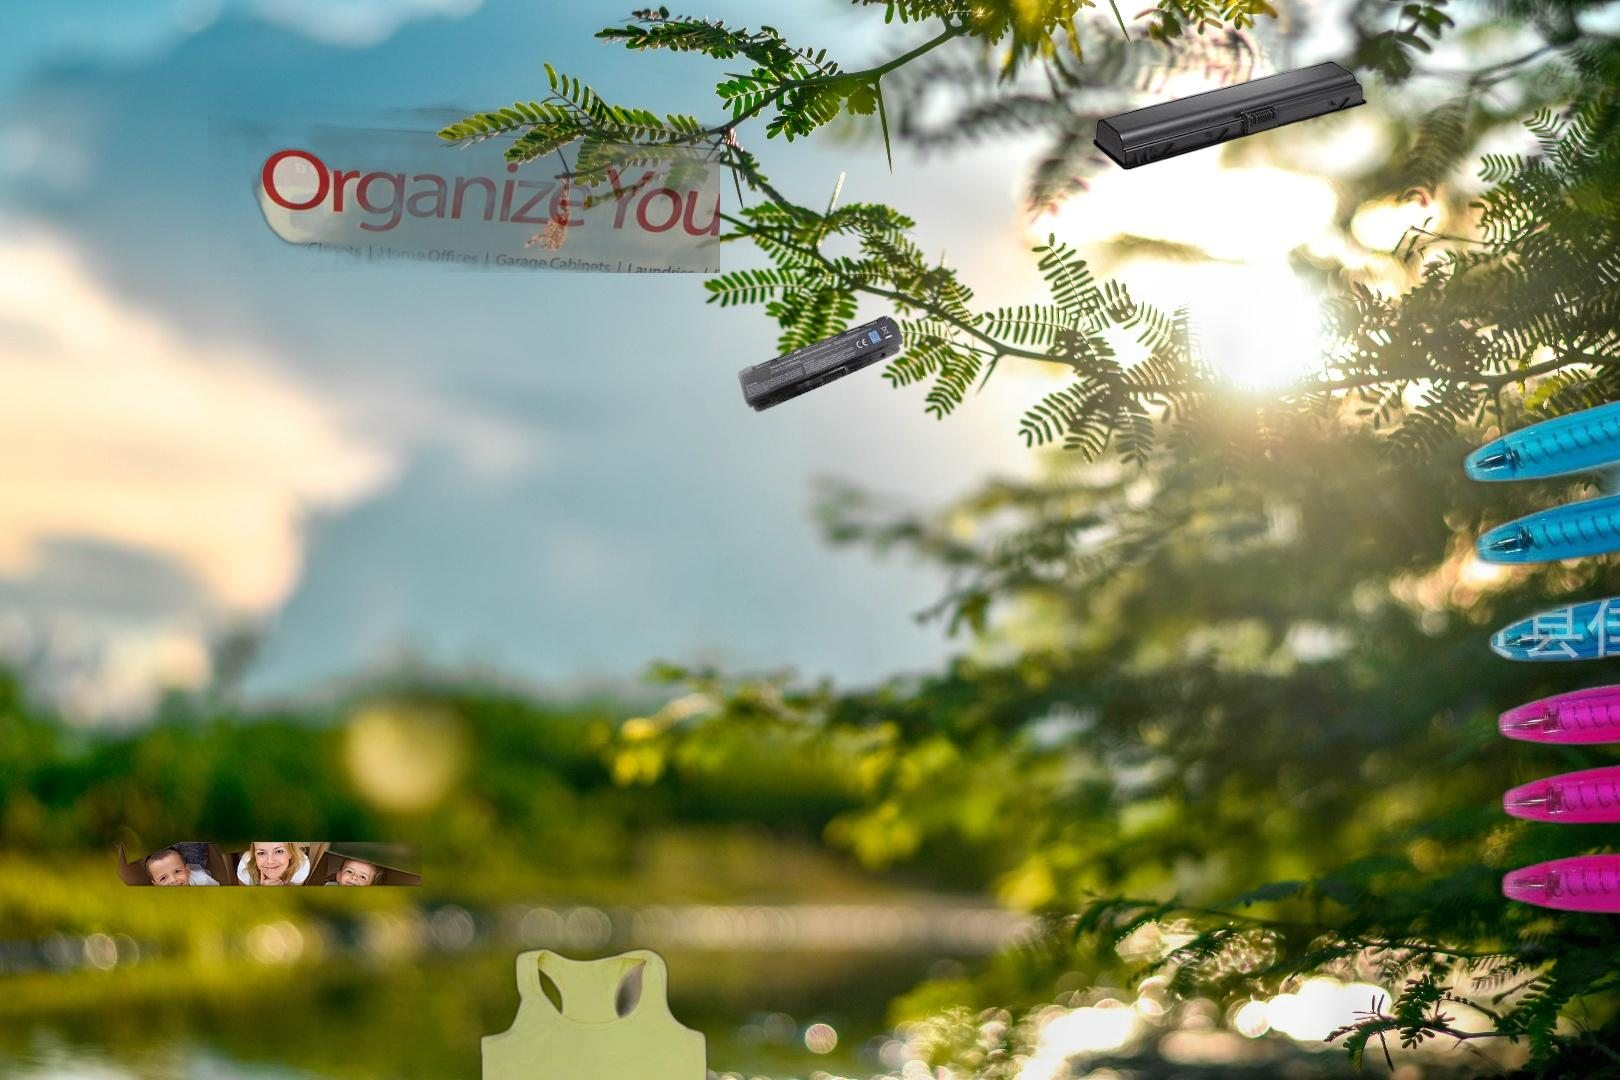battery: (1091, 58, 1369, 174), (736, 313, 906, 415)
clothes: (460, 944, 730, 1080)
paper: (209, 20, 720, 272)
penholder: (1452, 289, 1620, 925)
trashbox-cardboard: (520, 258, 1620, 1080), (106, 843, 422, 890)
